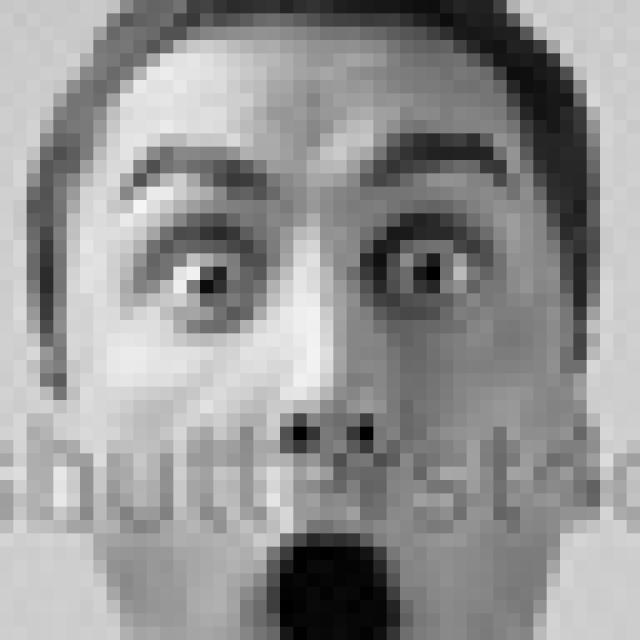surprise: (116, 123, 525, 640)
